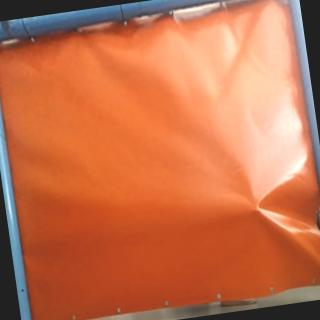Hit-hRxx: (250, 200, 266, 218)
